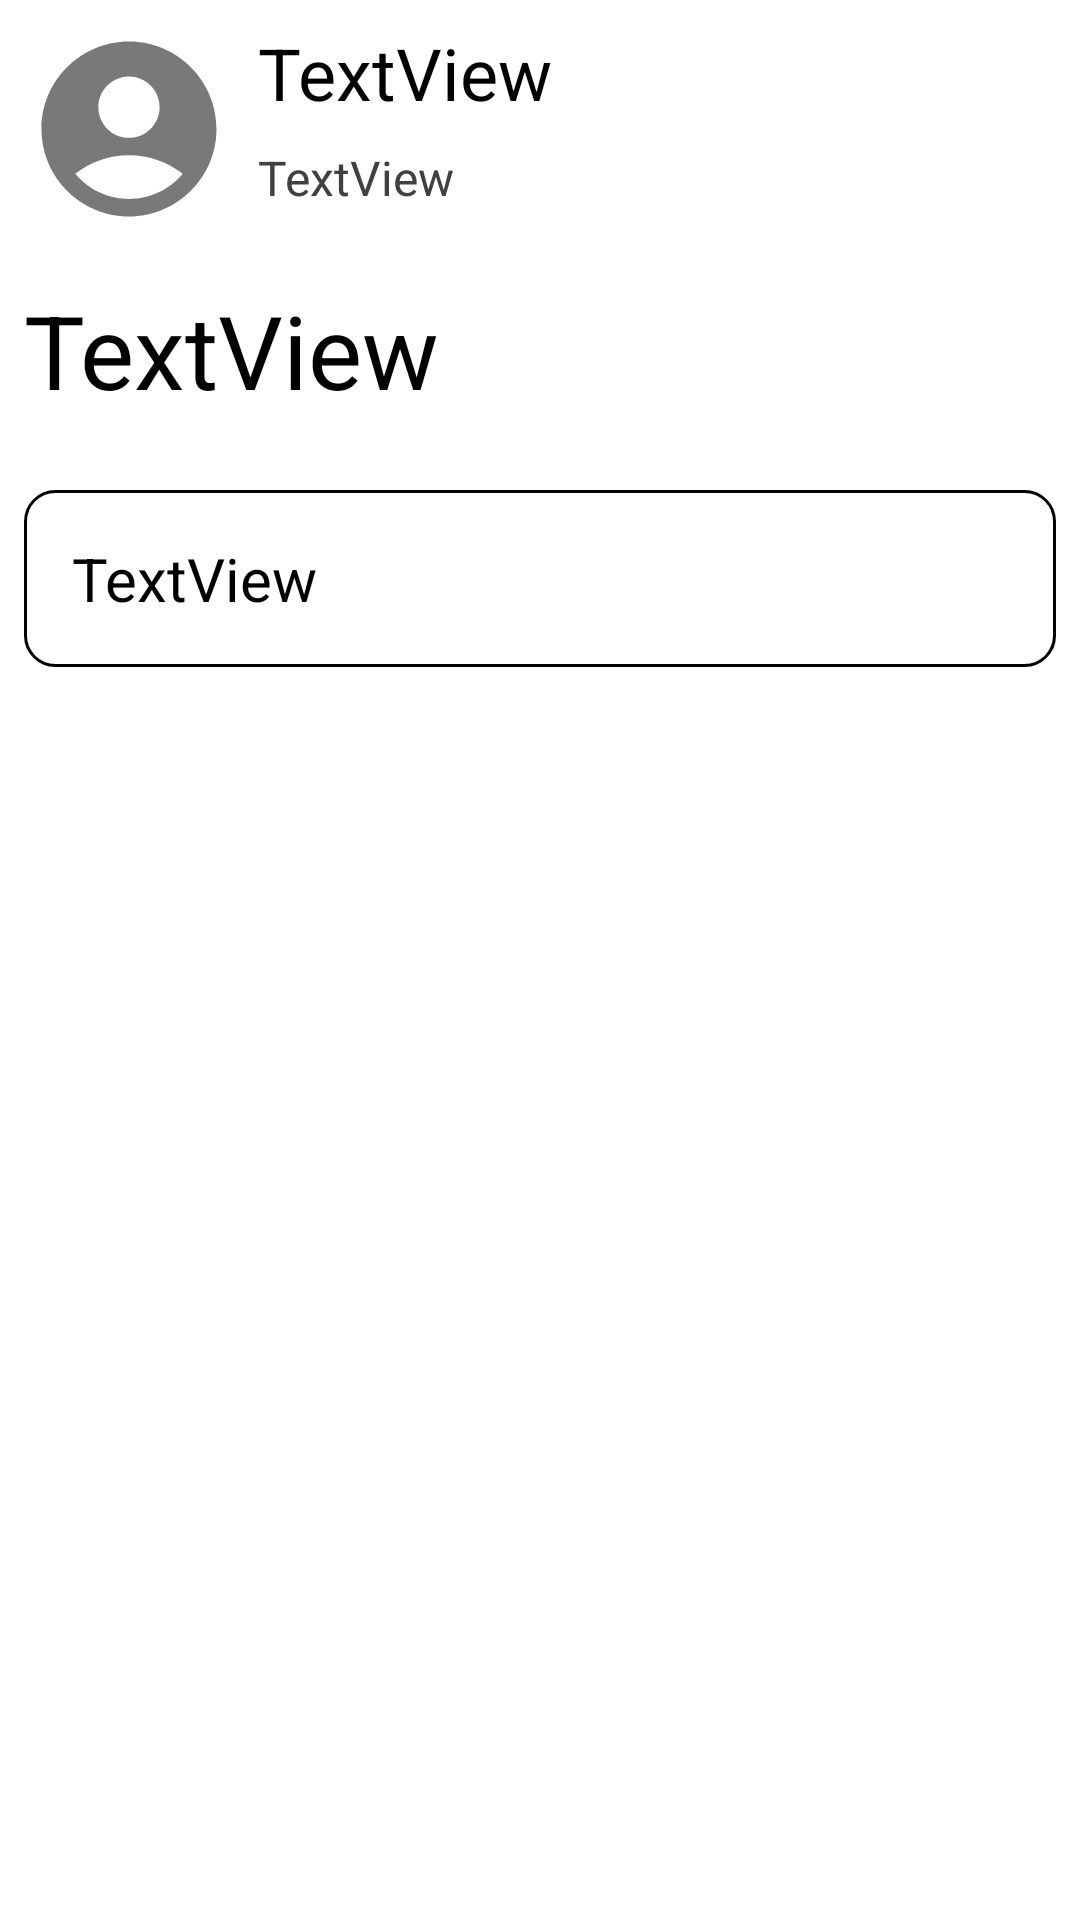

Locate icon controls on the screen. Image size 1080w x 1920h, boxes as [x1, y1, x2, y2].
account circle: [41, 41, 217, 217]
